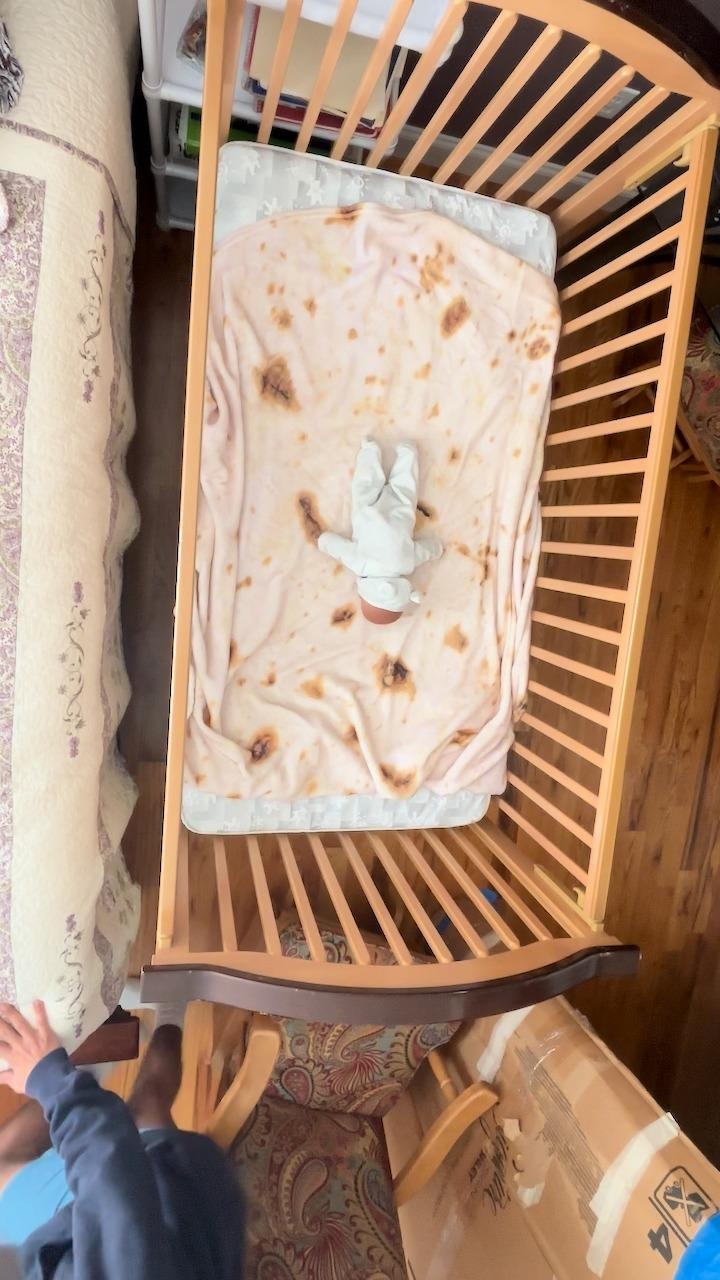baby: (317, 436, 456, 624)
